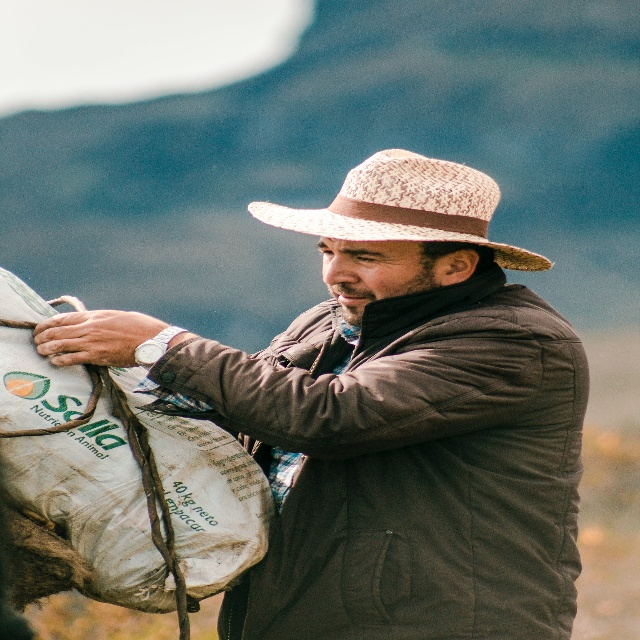Sin_guantes: (32, 307, 151, 370)
